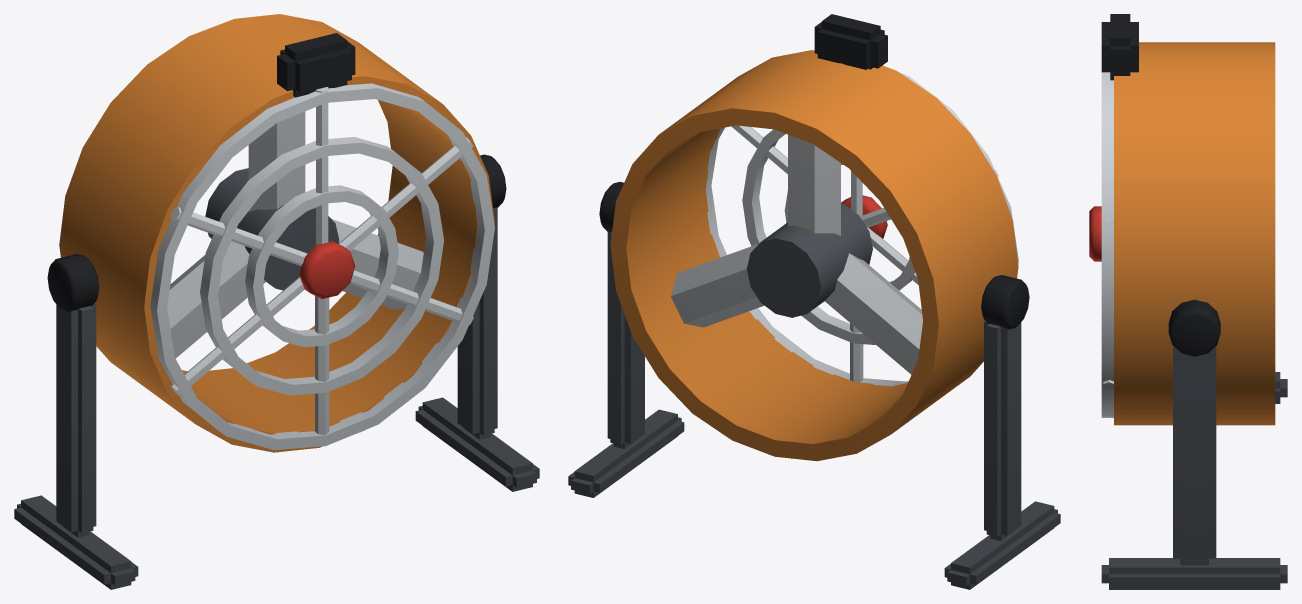
The model's file is SM_FloorFan_Drum_01.glb.
3 renders of one model, left to right at view 1: azimuth 30°, elevation 25°; view 2: azimuth 150°, elevation 25°; view 3: azimuth 270°, elevation 25°, orthographic. The views are drawn at different scales.
Visible parts, largest first — view 1: SM_FloorFan_Drum_01; view 2: SM_FloorFan_Drum_01; view 3: SM_FloorFan_Drum_01.
Boxes of the visible parts, x1=… form: SM_FloorFan_Drum_01: x1=14, y1=14, x2=539, y2=589; SM_FloorFan_Drum_01: x1=568, y1=14, x2=1060, y2=589; SM_FloorFan_Drum_01: x1=1089, y1=14, x2=1287, y2=589.
Size of the model in its own units: 0.77 by 0.83 by 0.32.
1 material, 1 textured.
